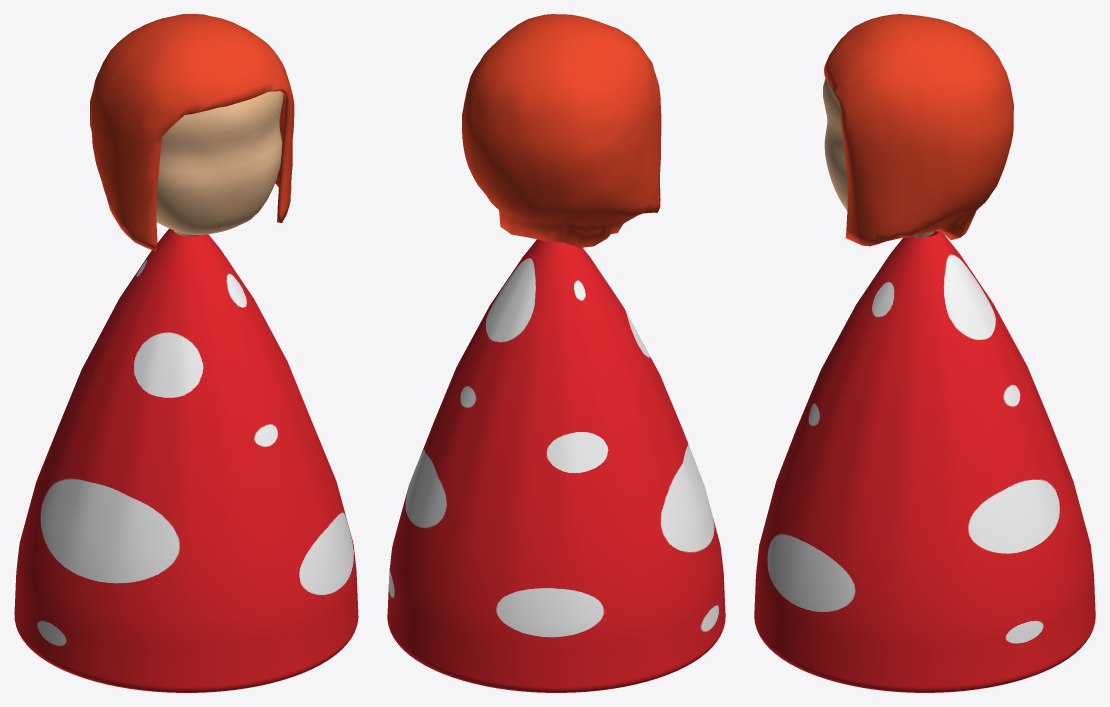
3 renders of one model, left to right at view 1: azimuth 30°, elevation 25°; view 2: azimuth 150°, elevation 25°; view 3: azimuth 270°, elevation 25°, orthographic.
Parts seen in each view (by area): view 1: Lathe, hairrrr, Sphere; view 2: Lathe, hairrrr; view 3: Lathe, hairrrr, Sphere.
Boxes of the visible parts, bbox=[...] form: Lathe: bbox=[14, 228, 358, 692]; hairrrr: bbox=[90, 14, 294, 251]; Sphere: bbox=[156, 91, 283, 236]; Lathe: bbox=[387, 239, 725, 692]; hairrrr: bbox=[462, 14, 661, 247]; Lathe: bbox=[754, 230, 1095, 692]; hairrrr: bbox=[824, 14, 1013, 246]; Sphere: bbox=[823, 78, 934, 237].
Bounding box in the file's own units: 322 × 624 × 322.
Materials: 3 (1 with a texture image).
